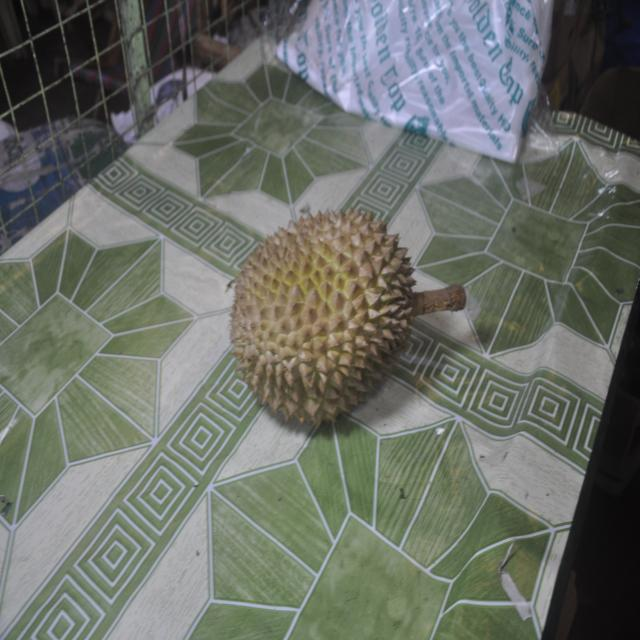mature: (231, 210, 465, 424)
